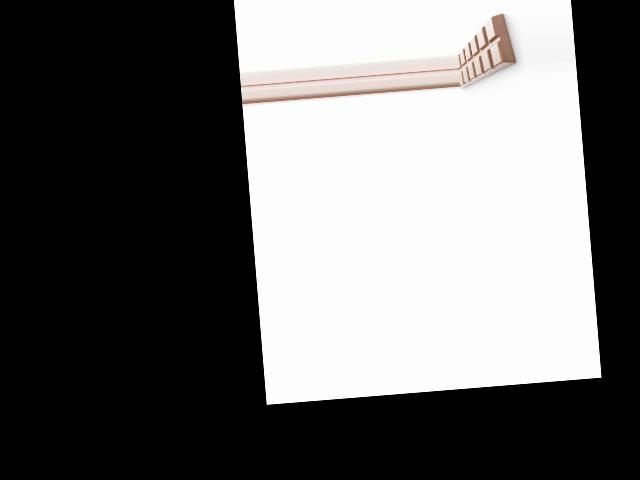chocolate: (454, 12, 520, 93)
